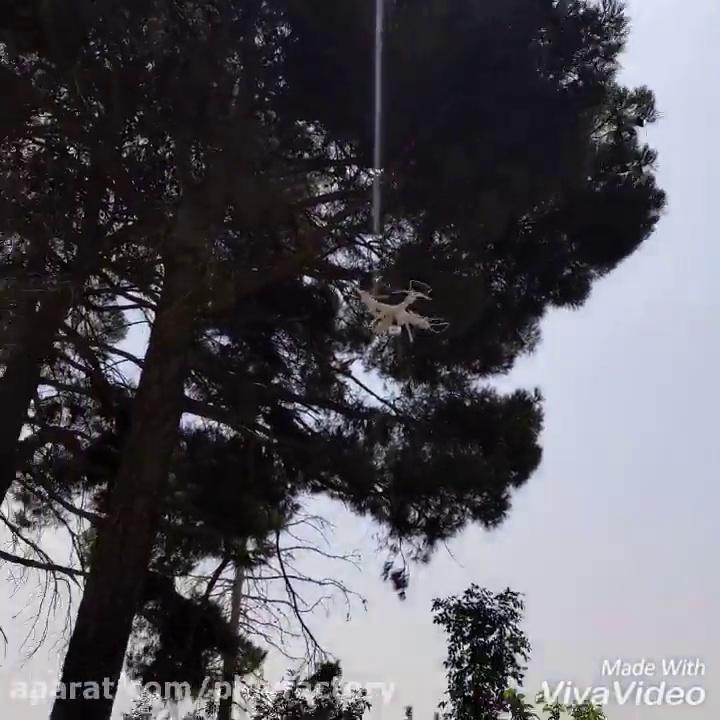drone: (350, 277, 450, 344)
